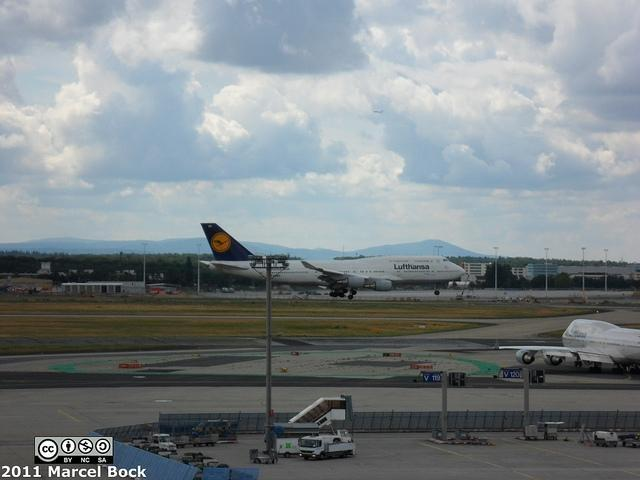car: (183, 452, 213, 464), (146, 446, 170, 458)
truck: (274, 423, 354, 457), (299, 435, 356, 460), (138, 433, 178, 455)
